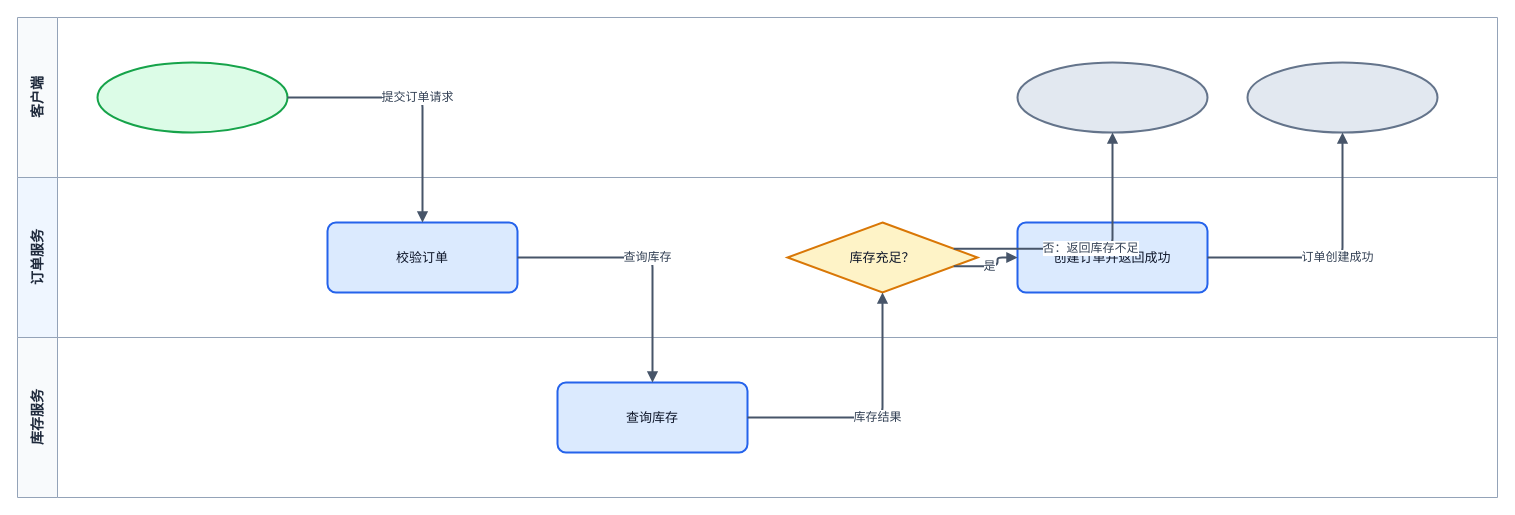
Image size: 1515x515. Some labels were removed from this diagram. Each missing label, with the box of its shape:
展示库存不足: (1016, 61, 1208, 133)
展示成功: (1246, 61, 1438, 133)
提交订单: (96, 61, 288, 133)
